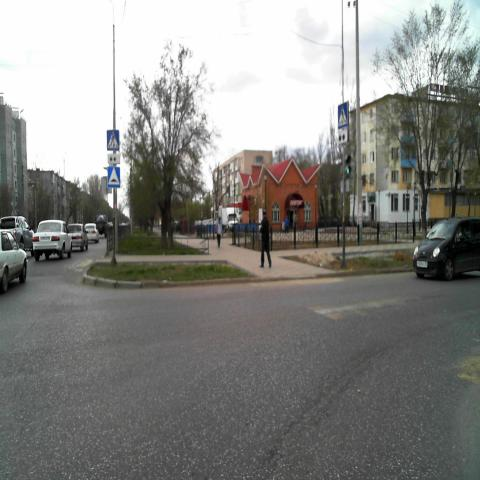8_15: (106, 152, 120, 164)
